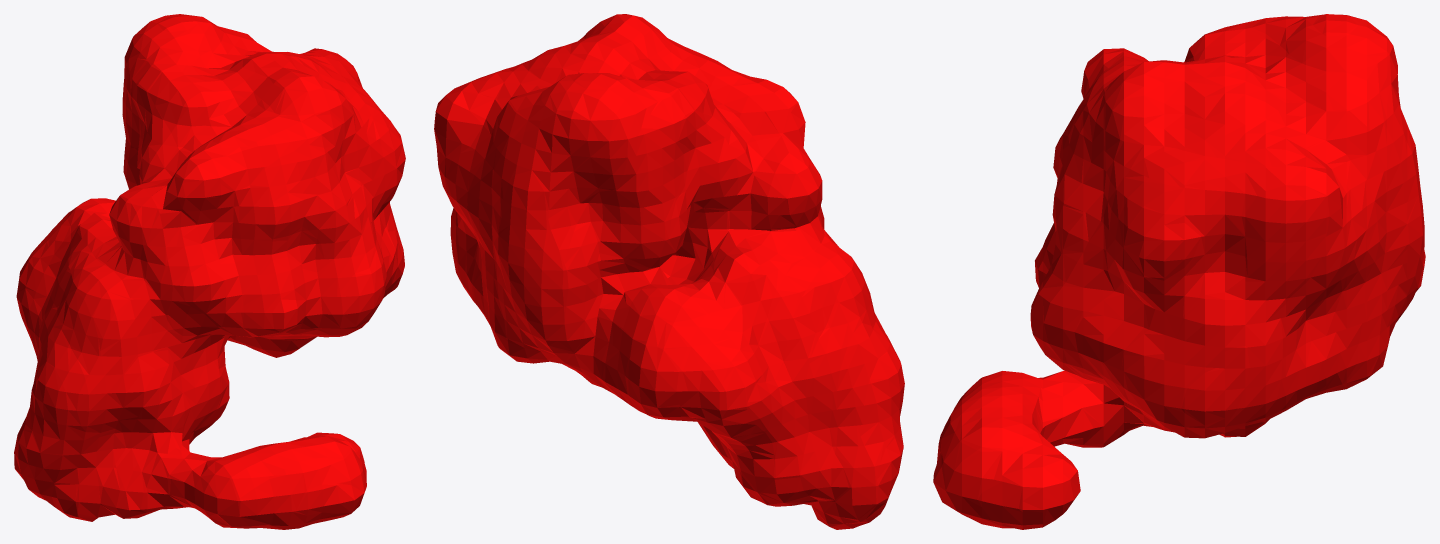
Rendered from ubiD_coarse.dae.
The picture shows the model from 3 angles, left to right: view 1: azimuth 30°, elevation 25°; view 2: azimuth 150°, elevation 25°; view 3: azimuth 270°, elevation 25°; orthographic projection. The views are drawn at different scales.
Visible parts, largest first — view 1: ubiD; view 2: ubiD; view 3: ubiD.
Part boxes in pixels (bbox=[...]): ubiD: bbox=[14, 14, 405, 529]; ubiD: bbox=[434, 14, 904, 529]; ubiD: bbox=[933, 14, 1425, 529].
Size of the model in its own units: 69.96 by 71.95 by 63.39.
